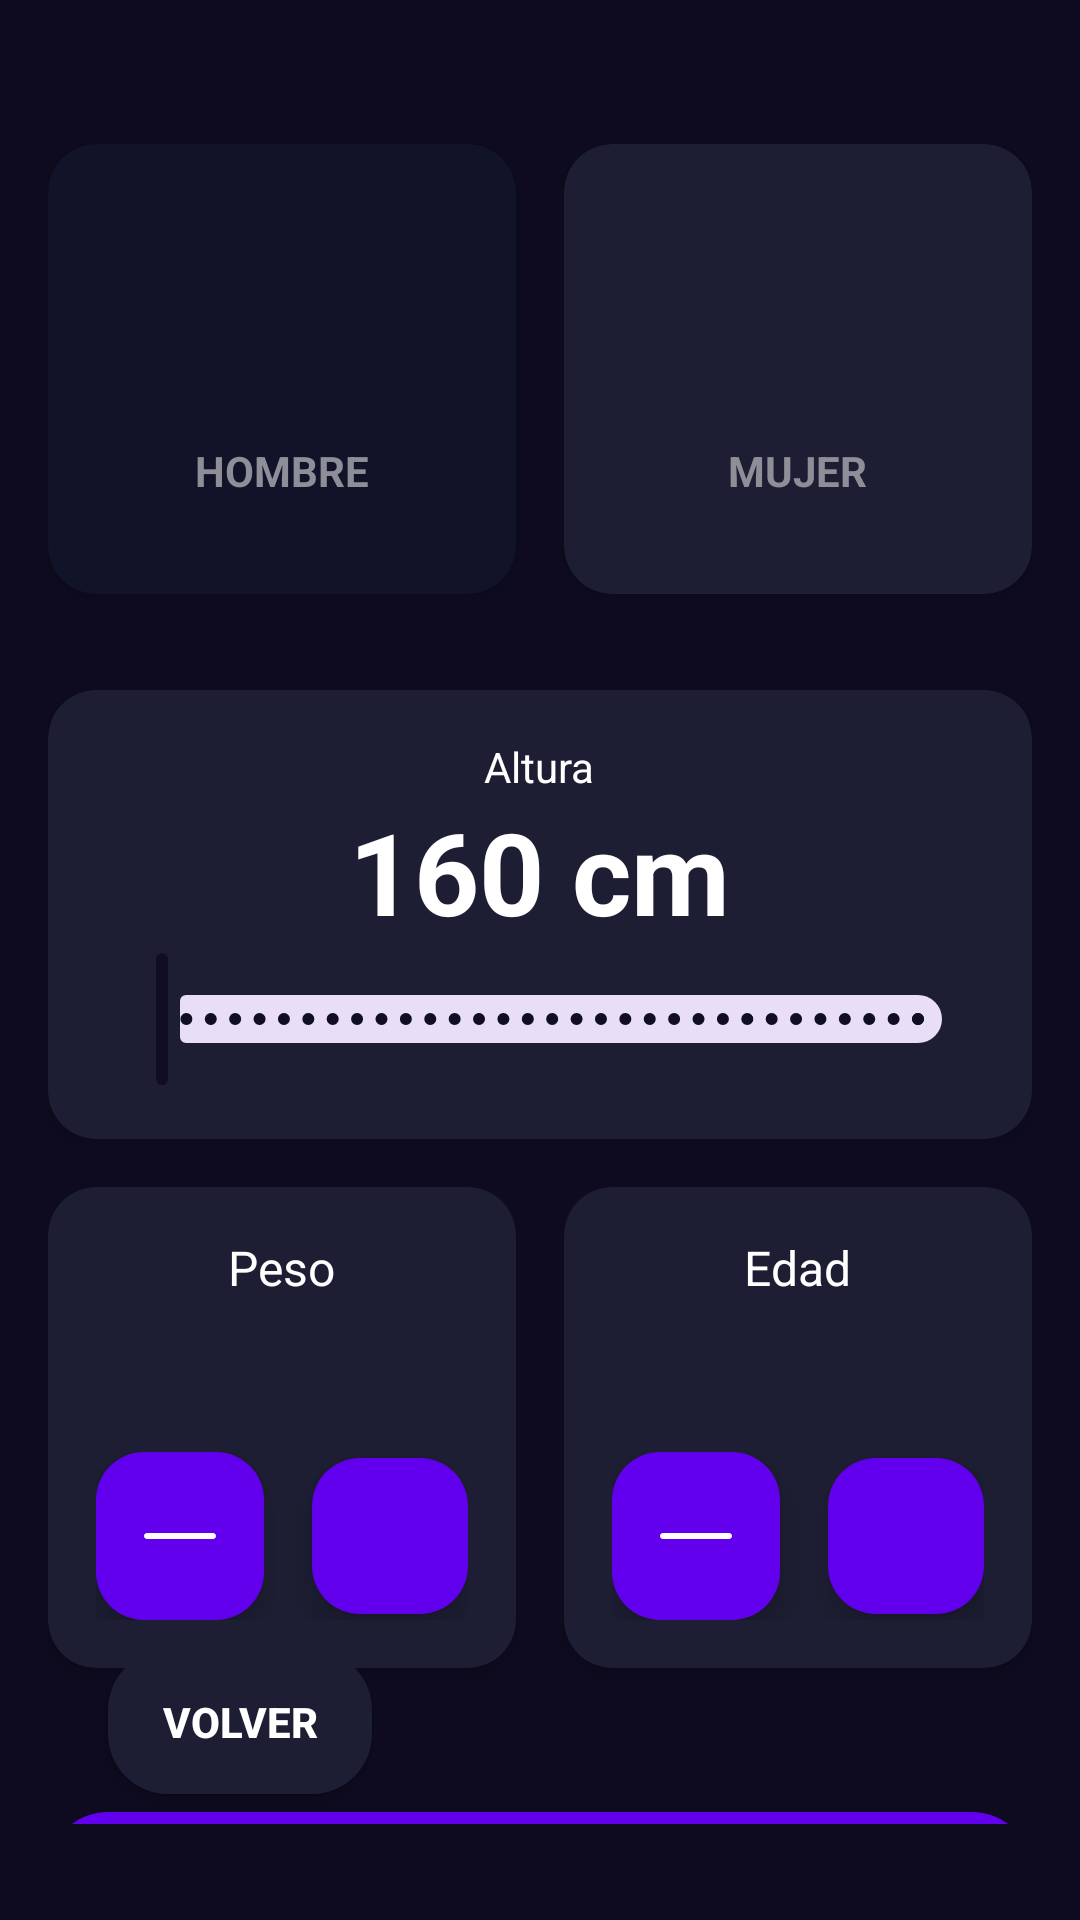

Icon click points for this 1080px×1920px phone screenshot, format point (x, y):
sub: point (180, 1536), point (696, 1536)
